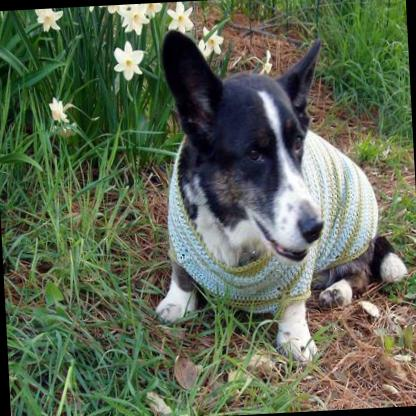Cardigan: (139, 15, 409, 367)
